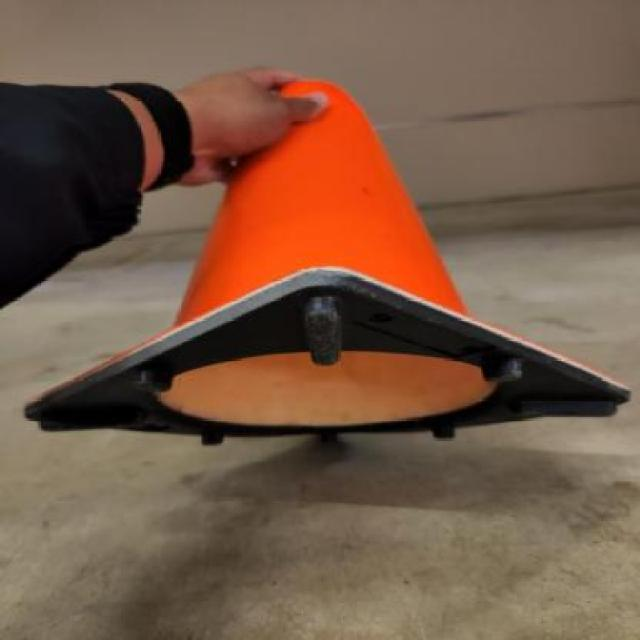traffic cone: (15, 56, 640, 459)
